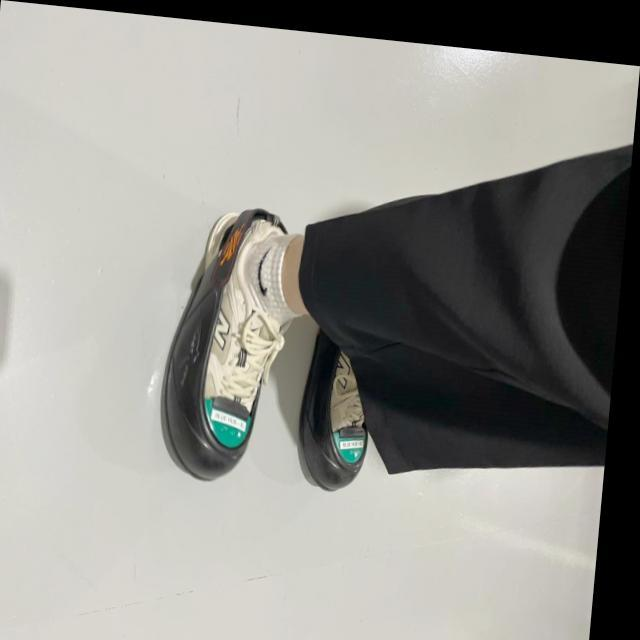shoes: (155, 190, 293, 488), (293, 323, 379, 496)
